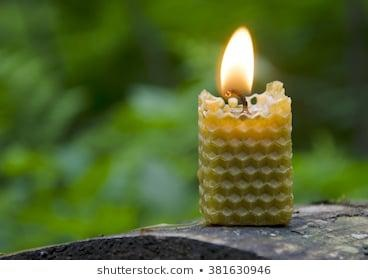fire: (217, 25, 255, 98)
